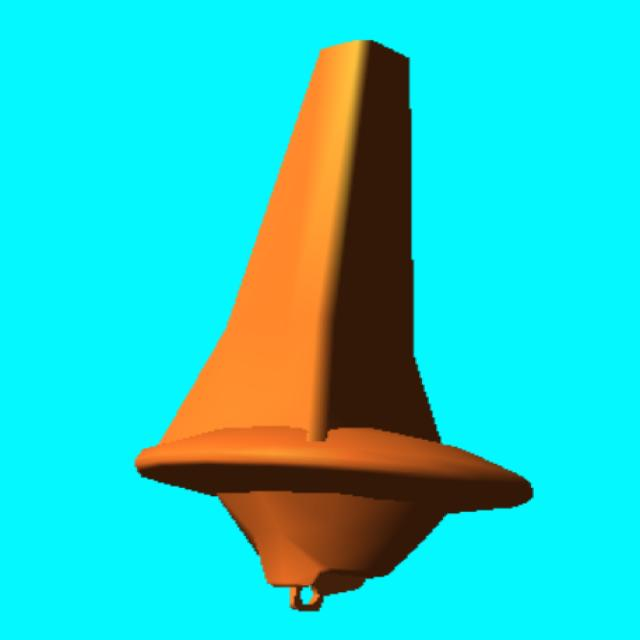OrangeBuoy: (136, 41, 532, 609)
